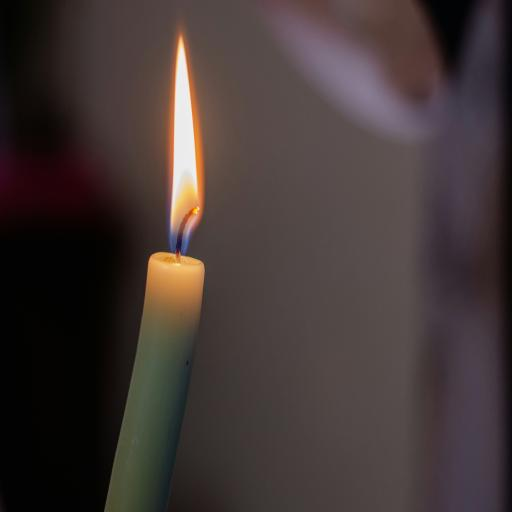candlelight: (105, 29, 204, 512)
